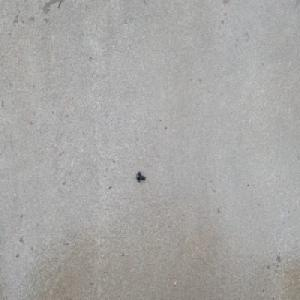BoltWasher: (136, 170, 145, 182)
